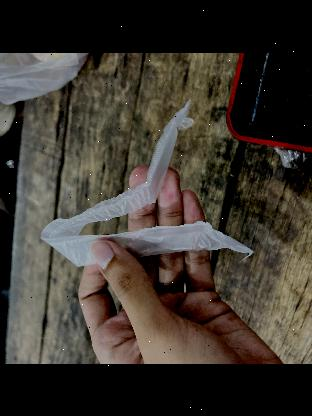Others: (35, 104, 254, 280)
